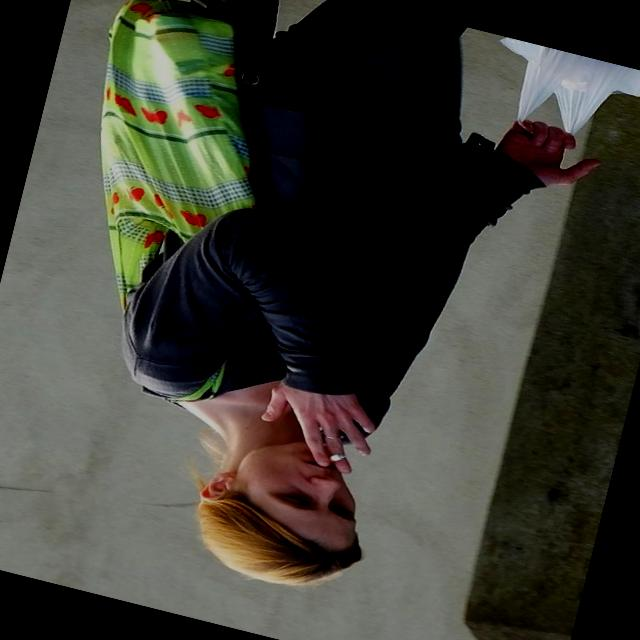cigarette: (308, 436, 362, 482)
